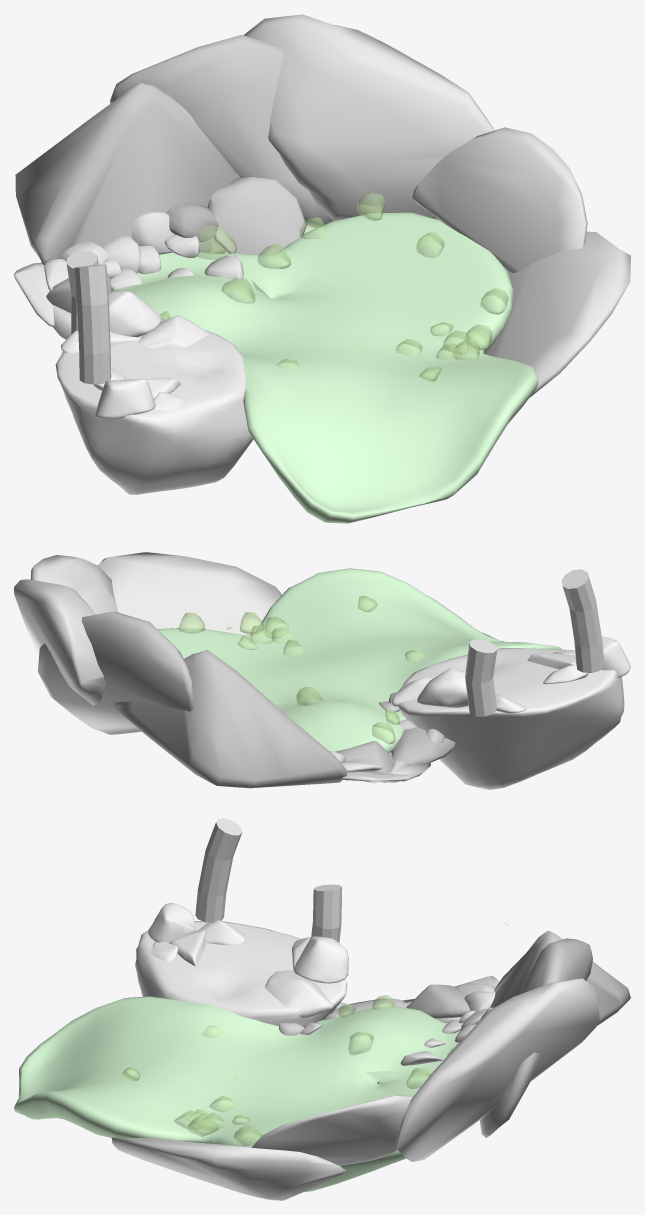
File: GameEnv_col.glb
3 views of the same model, one above another, from view 1: azimuth 30°, elevation 25°; view 2: azimuth 150°, elevation 25°; view 3: azimuth 270°, elevation 25° (orthographic). The views are drawn at different scales.
Visible parts, largest first — view 1: GRassMapcol, Retopo_s.110, Retopo_s.111, Retopo_s.089, Retopo_s.112, Retopo_s.108, Retopo_s.107, Retopo_s.119, Cylinder, Retopo_s.090, Retopo_s.091, Retopo_s.115 (+6 smaller); view 2: GRassMapcol, Retopo_s.089, Retopo_s.111, Retopo_s.107, Retopo_s.108, Retopo_s.110, Cylinder, Retopo_s.112, Retopo_s.109, Retopo_s.091, Retopo_s.125, Retopo_s.090 (+12 smaller); view 3: GRassMapcol, Retopo_s.110, Retopo_s.089, Retopo_s.107, Retopo_s.112, Cylinder, Retopo_s.108, Retopo_s.111, Retopo_s.091, Retopo_s.093, Retopo_s.125, Retopo_s.090 (+3 smaller).
Boxes of the visible parts, left/top/right/bottom form: GRassMapcol: left=112, top=212, right=538, bottom=523; Retopo_s.110: left=243, top=14, right=494, bottom=220; Retopo_s.111: left=15, top=82, right=240, bottom=264; Retopo_s.089: left=55, top=319, right=253, bottom=494; Retopo_s.112: left=410, top=127, right=587, bottom=272; Retopo_s.108: left=110, top=34, right=333, bottom=228; Retopo_s.107: left=484, top=231, right=630, bottom=397; Retopo_s.119: left=208, top=177, right=306, bottom=254; Cylinder: left=66, top=250, right=111, bottom=384; Retopo_s.090: left=95, top=379, right=155, bottom=418; Retopo_s.091: left=108, top=290, right=161, bottom=337; Retopo_s.115: left=166, top=203, right=218, bottom=241; GRassMapcol: left=158, top=568, right=562, bottom=752; Retopo_s.089: left=398, top=648, right=624, bottom=789; Retopo_s.111: left=114, top=649, right=347, bottom=788; Retopo_s.107: left=97, top=552, right=282, bottom=635; Retopo_s.108: left=38, top=612, right=193, bottom=734; Retopo_s.110: left=14, top=579, right=105, bottom=705; Cylinder: left=465, top=569, right=604, bottom=716; Retopo_s.112: left=30, top=555, right=118, bottom=614; Retopo_s.109: left=391, top=727, right=455, bottom=764; Retopo_s.091: left=417, top=668, right=468, bottom=707; Retopo_s.125: left=336, top=741, right=406, bottom=781; Retopo_s.090: left=601, top=636, right=630, bottom=678; GRassMapcol: left=14, top=996, right=459, bottom=1191; Retopo_s.110: left=394, top=978, right=599, bottom=1161; Retopo_s.089: left=135, top=921, right=347, bottom=1026; Retopo_s.107: left=111, top=1137, right=346, bottom=1200; Retopo_s.112: left=251, top=1095, right=412, bottom=1165; Cylinder: left=195, top=818, right=342, bottom=942; Retopo_s.108: left=480, top=938, right=592, bottom=1137; Retopo_s.111: left=490, top=930, right=630, bottom=1025; Retopo_s.091: left=294, top=936, right=348, bottom=983; Retopo_s.093: left=265, top=970, right=333, bottom=1017; Retopo_s.125: left=406, top=984, right=469, bottom=1018; Retopo_s.090: left=148, top=903, right=195, bottom=942.
Size of the model in its own units: 40.17 by 17.62 by 42.98.
